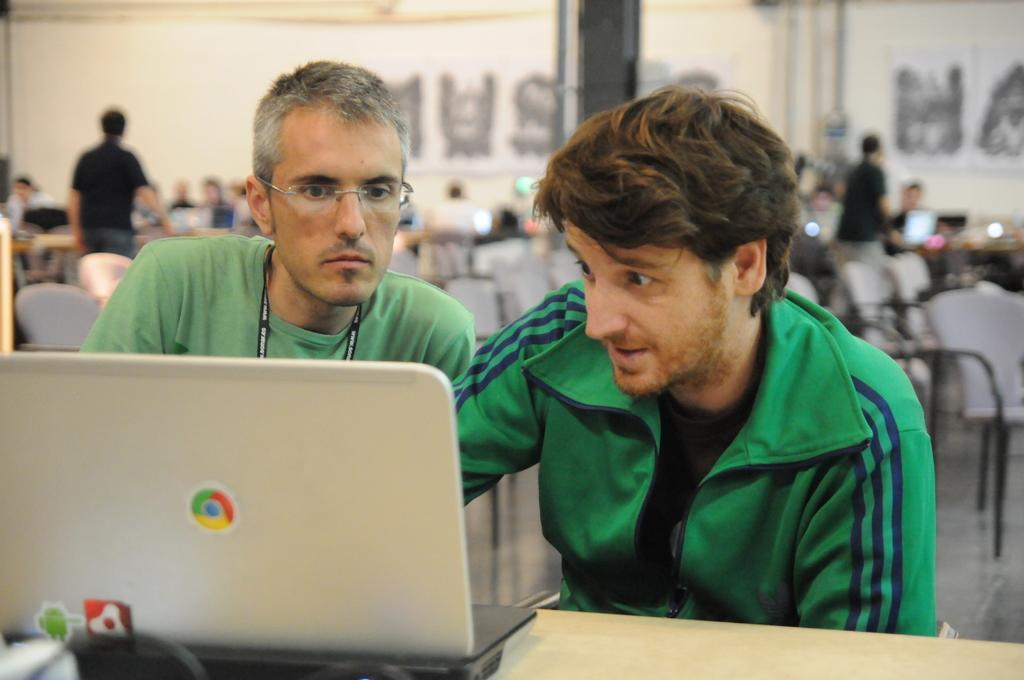Laptop: (19, 347, 510, 671)
